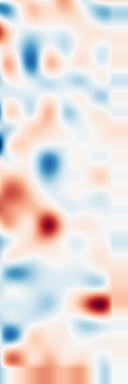filament: (0, 178, 70, 247)
